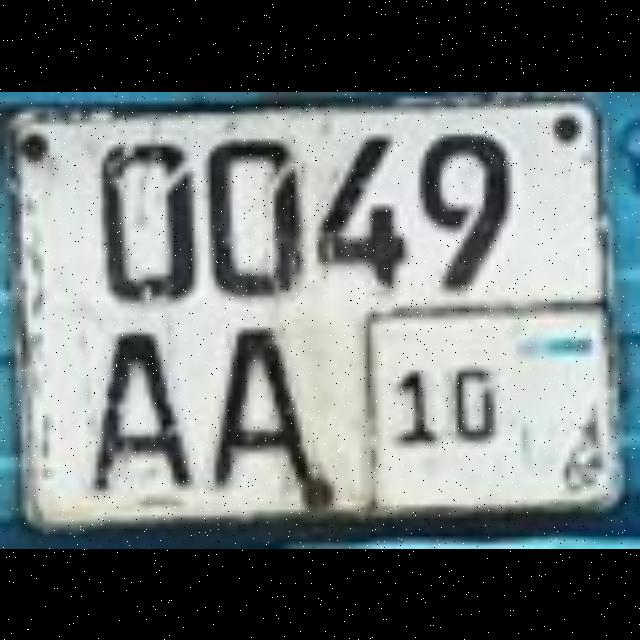0: (204, 133, 296, 284), (98, 140, 188, 290), (446, 360, 489, 430)
1: (388, 360, 430, 436)
4: (312, 128, 403, 280)
9: (414, 128, 506, 280)
A: (210, 322, 306, 478), (92, 328, 188, 478)
